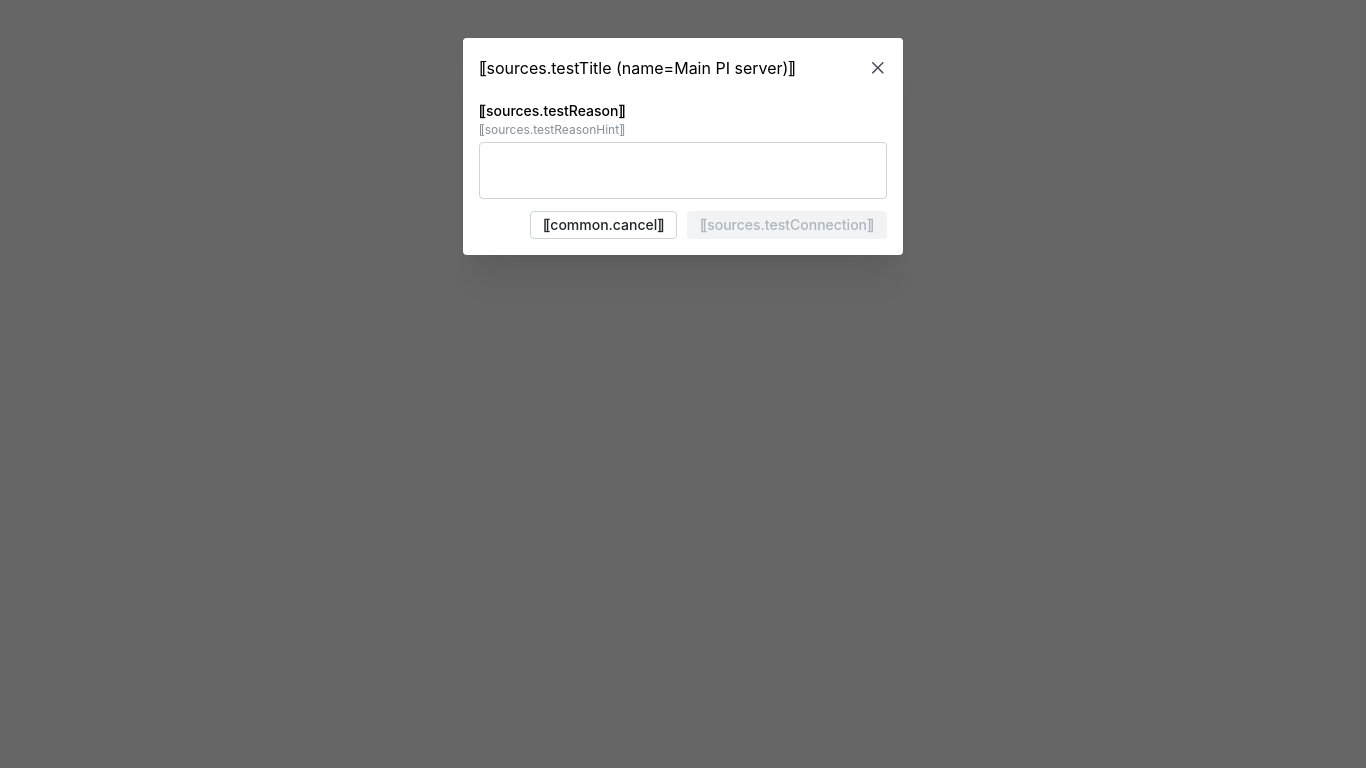
Test: TestDataSourceModal › ok: true — банер успіху з кількістю сутностей
The image size is (1366, 768).
Type "перевірка" into the text box.
click(683, 171); type("перевірка")  # box left=479, top=143, right=887, bottom=200
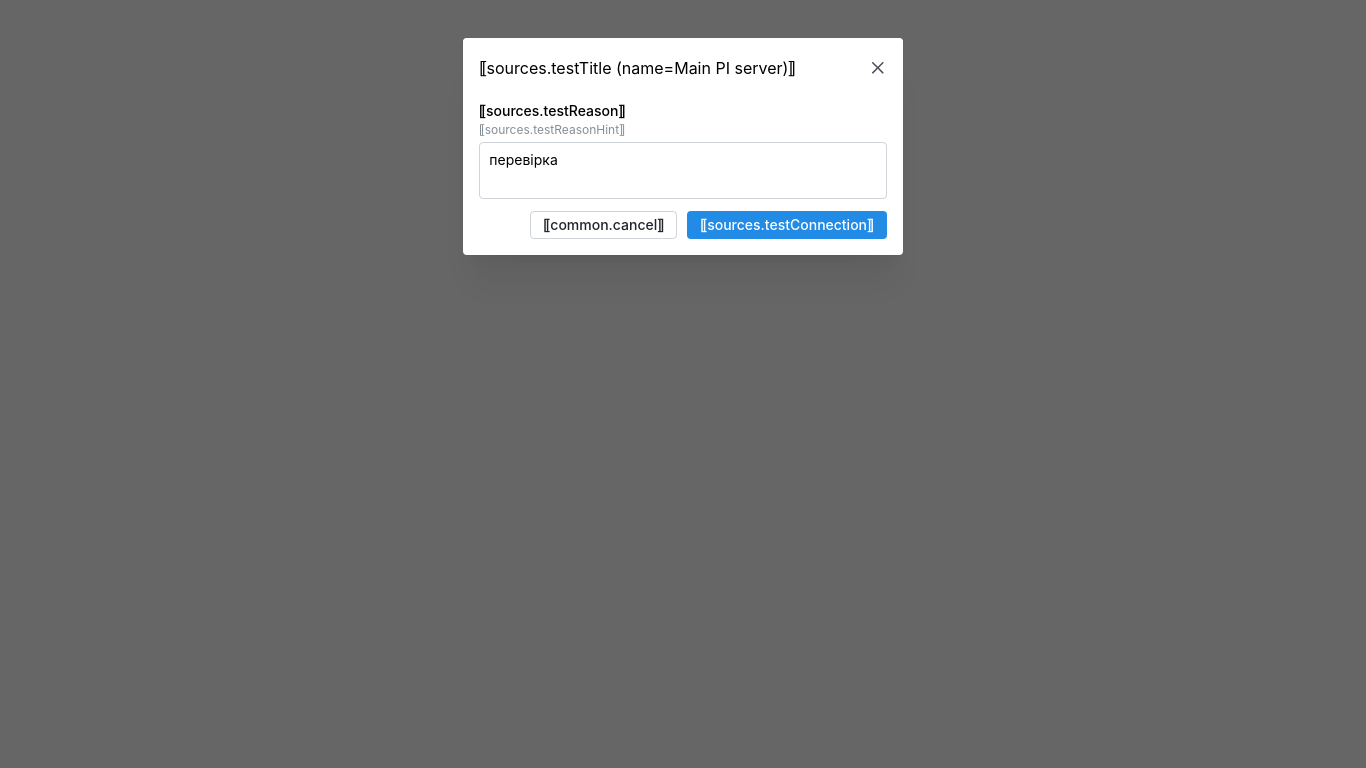
Click the button "⟦sources.testConnection⟧".
click(787, 226)  # box left=687, top=212, right=887, bottom=240
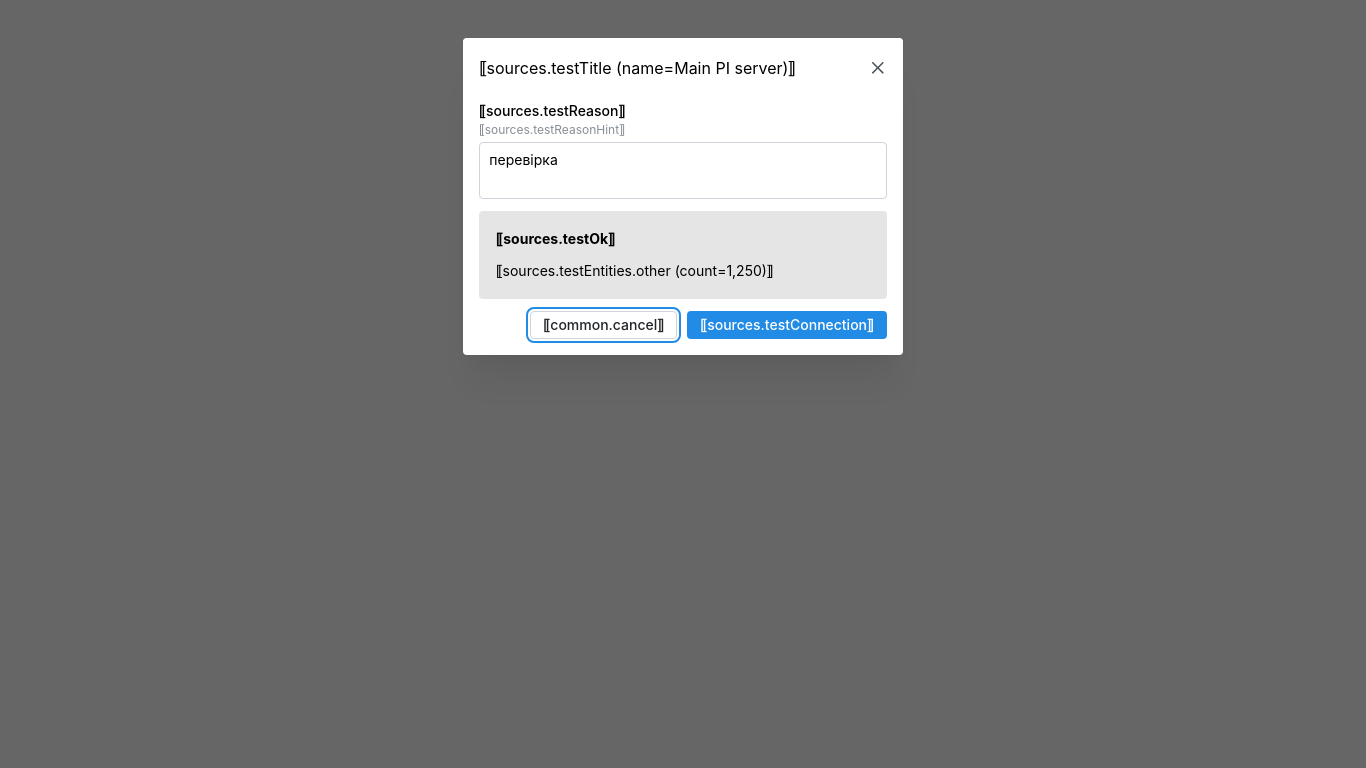
Now the message "⟦sources.testOk⟧ ⟦sources.testEntities.other (count=1,250)⟧" is shown, box left=479, top=212, right=887, bottom=299
